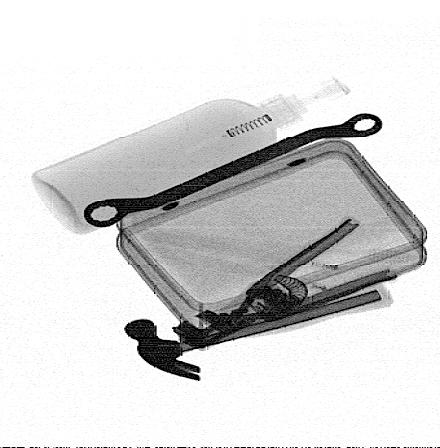Hammer: (124, 287, 380, 380)
Pliers: (182, 217, 401, 352)
Wrench: (82, 112, 382, 226)
